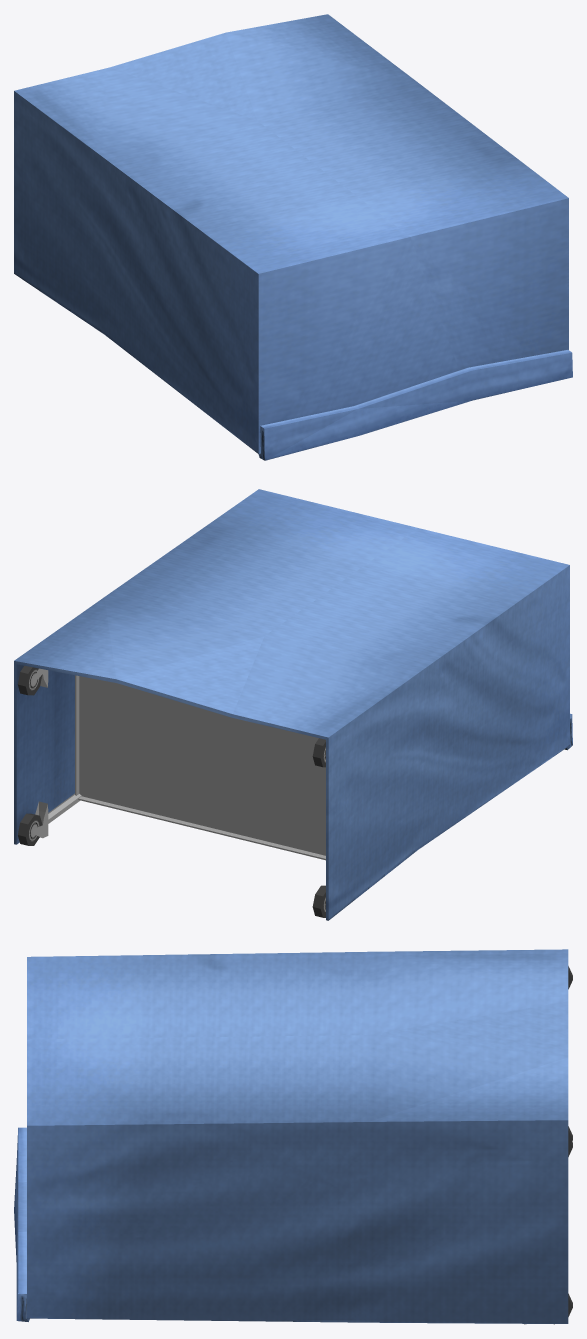
Rendered from StorageRackCoverOpen.dae.
The picture shows the model from 3 angles, top to bottom: view 1: azimuth 30°, elevation 25°; view 2: azimuth 150°, elevation 25°; view 3: azimuth 270°, elevation 25°; orthographic projection. The views are drawn at different scales.
Visible parts, largest first — view 1: node; view 2: node; view 3: node.
Boxes of the visible parts, x1,y1,x2,y2 form: node: (14, 14, 572, 460); node: (14, 489, 572, 920); node: (14, 949, 572, 1324).
Bounding box in the file's own units: 1.3 × 0.7808 × 1.8.
1 material, 1 textured.
